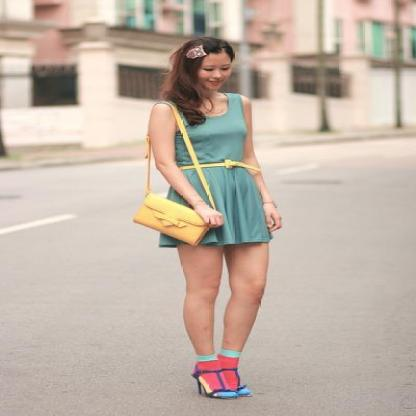bag: (135, 129, 211, 241)
dress: (159, 92, 280, 248)
shoe: (192, 374, 248, 399)
